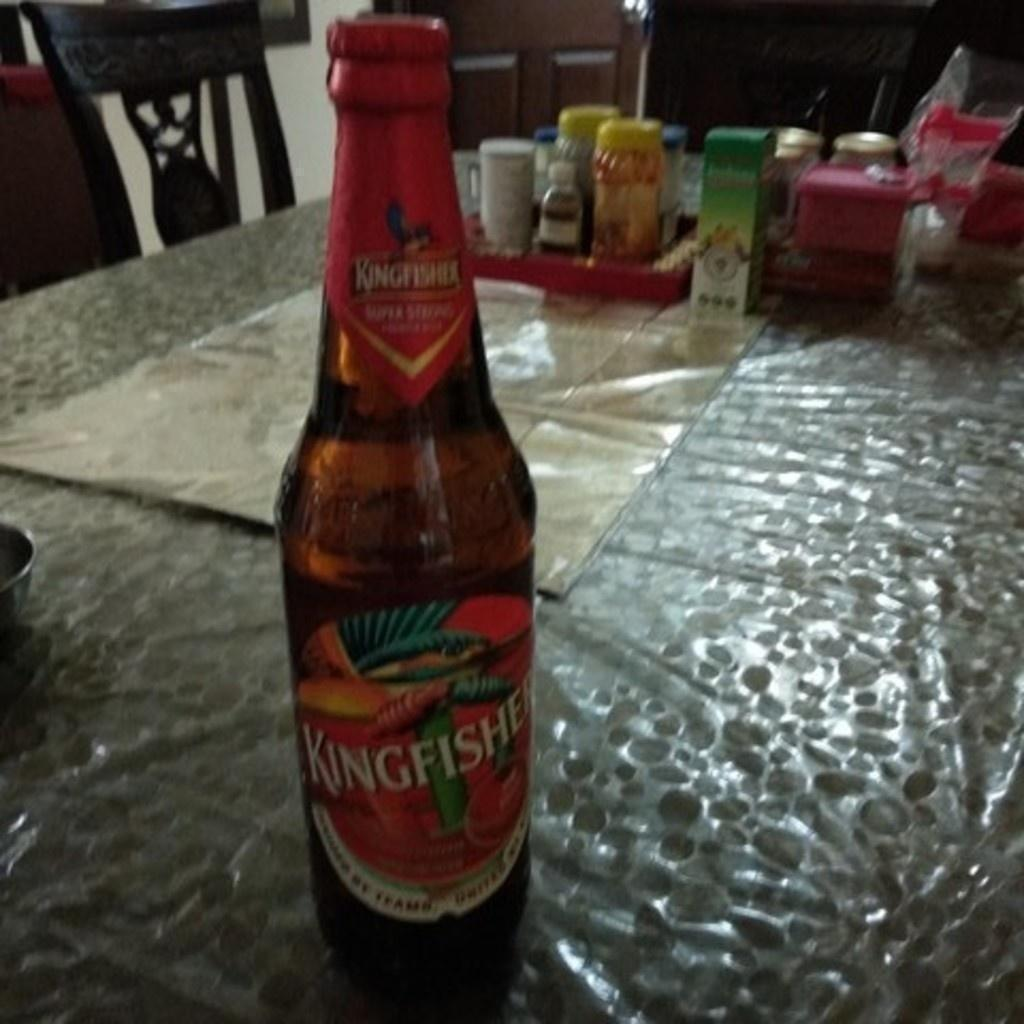bottle-glass: (263, 8, 547, 1005)
